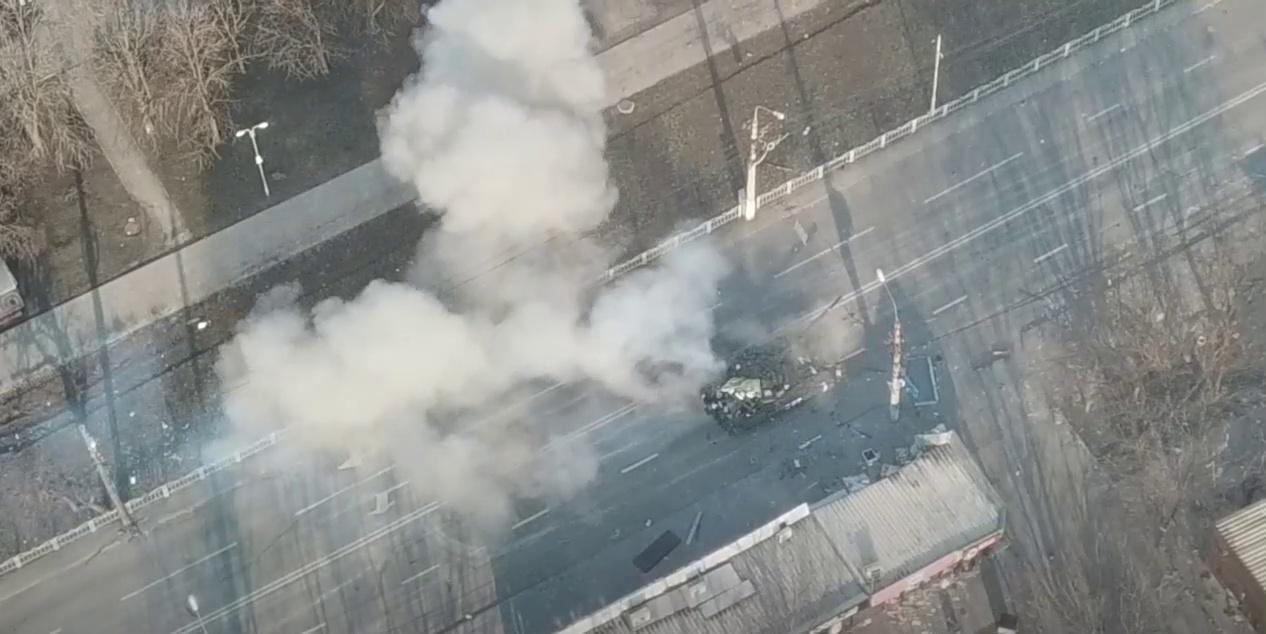tank: (700, 294, 846, 434)
